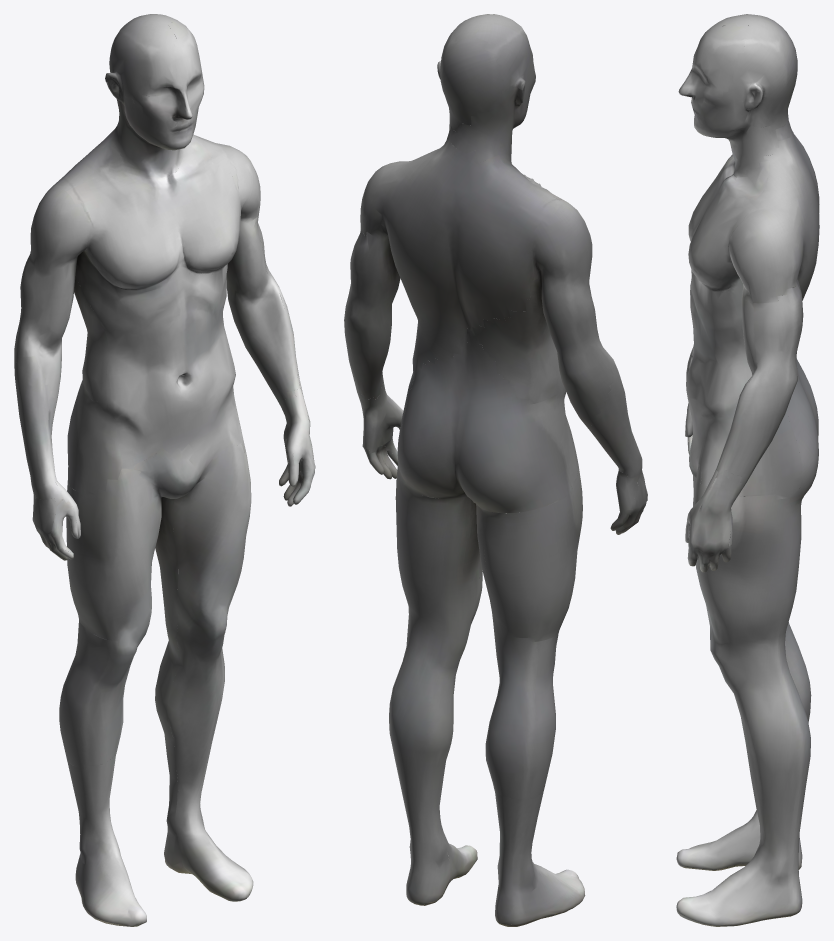
The model's file is mannequin.glb.
The picture shows the model from 3 angles, left to right: view 1: azimuth 30°, elevation 25°; view 2: azimuth 150°, elevation 25°; view 3: azimuth 270°, elevation 25°; orthographic projection.
Parts seen in each view (by area): view 1: mannequin; view 2: mannequin; view 3: mannequin.
Part boxes in pixels (x1,y1,x2,y2): mannequin: (14,14,315,926); mannequin: (344,14,647,926); mannequin: (676,14,819,926).
Bounding box in the file's own units: 0.5738 × 1.75 × 0.26.
1 material, 1 textured.
